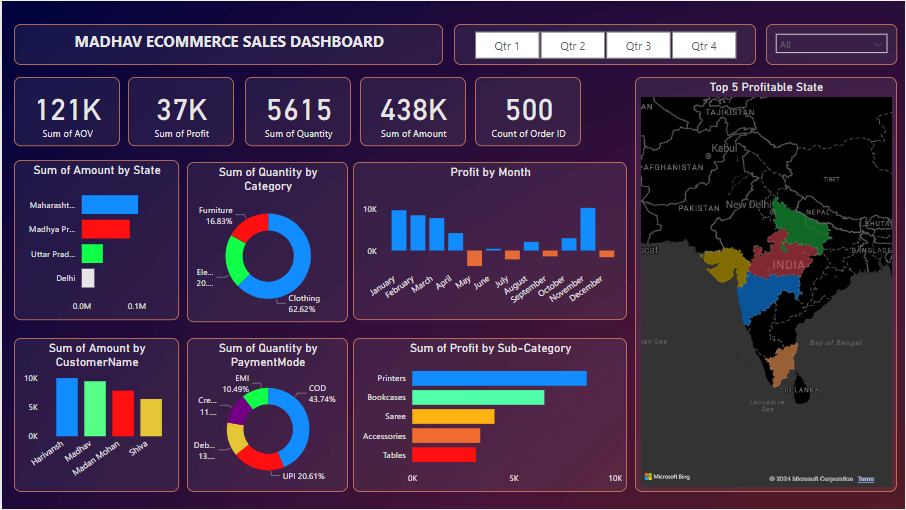

The dashboard page shown, as its layout file describes it:
{"tool":"powerbi","page":{"name":"Page 1","canvas":[1280,720],"ordinal":0},"visuals":[{"type":"textbox","box":[17,32.6,608,58.1],"z":0},{"type":"columnChart","title":"Profit by Month","fields":{"Y":["Sum(Details.Profit)"],"Category":["Orders.Order Date.Variation.Date Hierarchy.Month"]},"box":[497.5,228.2,388.3,223.9],"z":1000},{"type":"barChart","fields":{"Category":["Details.Sub-Category"],"Y":["Sum(Details.Profit)"]},"box":[497.5,477.6,388.3,218.3],"z":2000},{"type":"donutChart","fields":{"Y":["Sum(Details.Quantity)"],"Category":["Details.Category"]},"box":[262.2,228.2,228.2,226.8],"z":3000},{"type":"donutChart","fields":{"Y":["Sum(Details.Quantity)"],"Category":["Details.PaymentMode"]},"box":[262.2,477.6,228.2,218.3],"z":4000},{"type":"card","fields":{"Values":["Sum(Details.Amount)"]},"box":[507.4,107.7,150.2,97.8],"z":5000},{"type":"card","fields":{"Values":["Sum(Details.Quantity)"]},"box":[344.4,107.7,150.2,97.8],"z":6000},{"type":"card","fields":{"Values":["Sum(Details.Profit)"]},"box":[178.6,107.7,150.2,97.8],"z":7000},{"type":"card","fields":{"Values":["Sum(Details.AOV)"]},"box":[17,107.7,150.2,97.8],"z":8000},{"type":"barChart","fields":{"Category":["Orders.State"],"Y":["Sum(Details.Amount)"]},"box":[17,225.4,233.9,226.8],"z":9000},{"type":"columnChart","fields":{"Category":["Orders.CustomerName"],"Y":["Sum(Details.Amount)"]},"box":[17,477.6,233.9,218.3],"z":10000},{"type":"slicer","fields":{"Values":["Orders.Order Date.Variation.Date Hierarchy.Quarter"]},"box":[640.6,32.6,428,58.1],"z":11000},{"type":"slicer","fields":{"Values":["Orders.State"]},"box":[1082.8,32.6,185.7,58.1],"z":12000},{"type":"filledMap","title":"Top 5 Profitable State","fields":{"Category":["Orders.State"],"Series":["Details.Profit"]},"box":[897.2,107.7,371.3,588.2],"z":13000},{"type":"card","fields":{"Values":["CountNonNull(Orders.Order ID)"]},"box":[670.4,107.7,150.2,97.8],"z":14000}]}

Visuals, with their boxes in screenshot pixels (x1, y1, x2, y2), scaled from the page's 1280x720 canvas onto the 906x510 screenshot:
textbox: BBox(12, 23, 442, 64)
"Profit by Month" columnChart: BBox(352, 162, 627, 320)
barChart - Details.Sub-Category x Sum(Details.Profit): BBox(352, 338, 627, 493)
donutChart - Sum(Details.Quantity) x Details.Category: BBox(186, 162, 347, 322)
donutChart - Sum(Details.Quantity) x Details.PaymentMode: BBox(186, 338, 347, 493)
card - Sum(Details.Amount): BBox(359, 76, 465, 146)
card - Sum(Details.Quantity): BBox(244, 76, 350, 146)
card - Sum(Details.Profit): BBox(126, 76, 233, 146)
card - Sum(Details.AOV): BBox(12, 76, 118, 146)
barChart - Orders.State x Sum(Details.Amount): BBox(12, 160, 178, 320)
columnChart - Orders.CustomerName x Sum(Details.Amount): BBox(12, 338, 178, 493)
slicer - Orders.Order Date.Variation.Date Hierarchy.Quarter: BBox(453, 23, 756, 64)
slicer - Orders.State: BBox(766, 23, 898, 64)
"Top 5 Profitable State" filledMap: BBox(635, 76, 898, 493)
card - CountNonNull(Orders.Order ID): BBox(475, 76, 581, 146)
